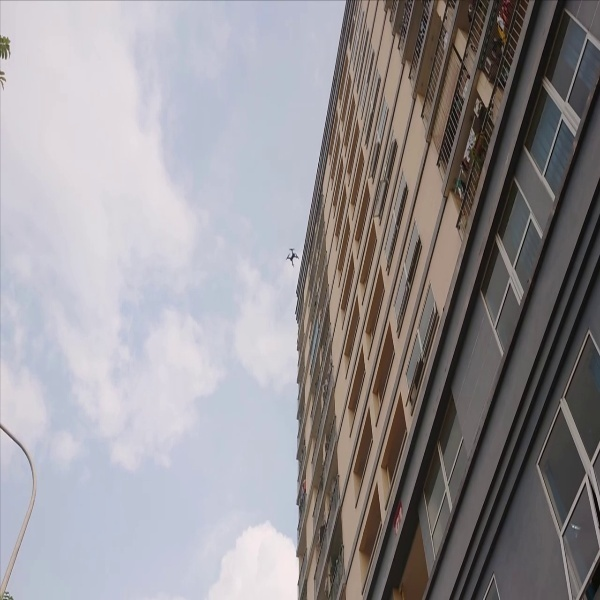drone: (282, 242, 307, 268)
